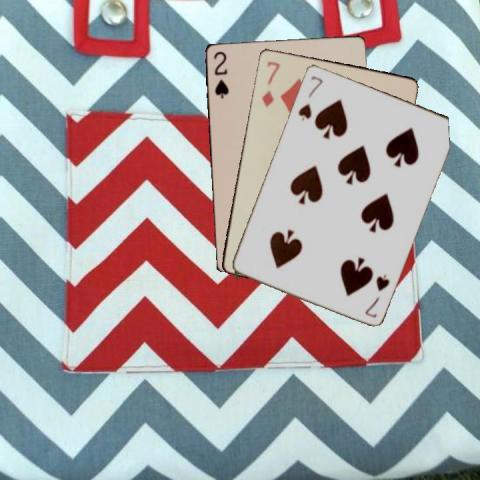2s: (211, 48, 230, 100)
7d: (259, 58, 281, 109)
7s: (294, 72, 324, 122), (361, 271, 391, 319)
